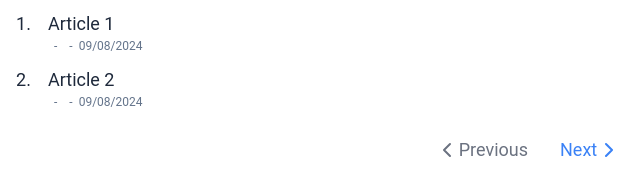
NewsFeed › must disable the "Next" button on the last page
This screenshot has width=638, height=181.
Click the button "Next": (591, 150) [560,136,621,164]
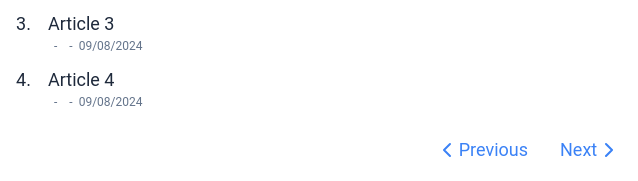
Click the button "Next": (591, 150) [560,136,621,164]
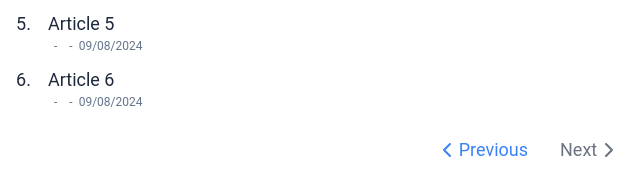
Check: the button "Next" is disabled, box [560,136,621,164]
